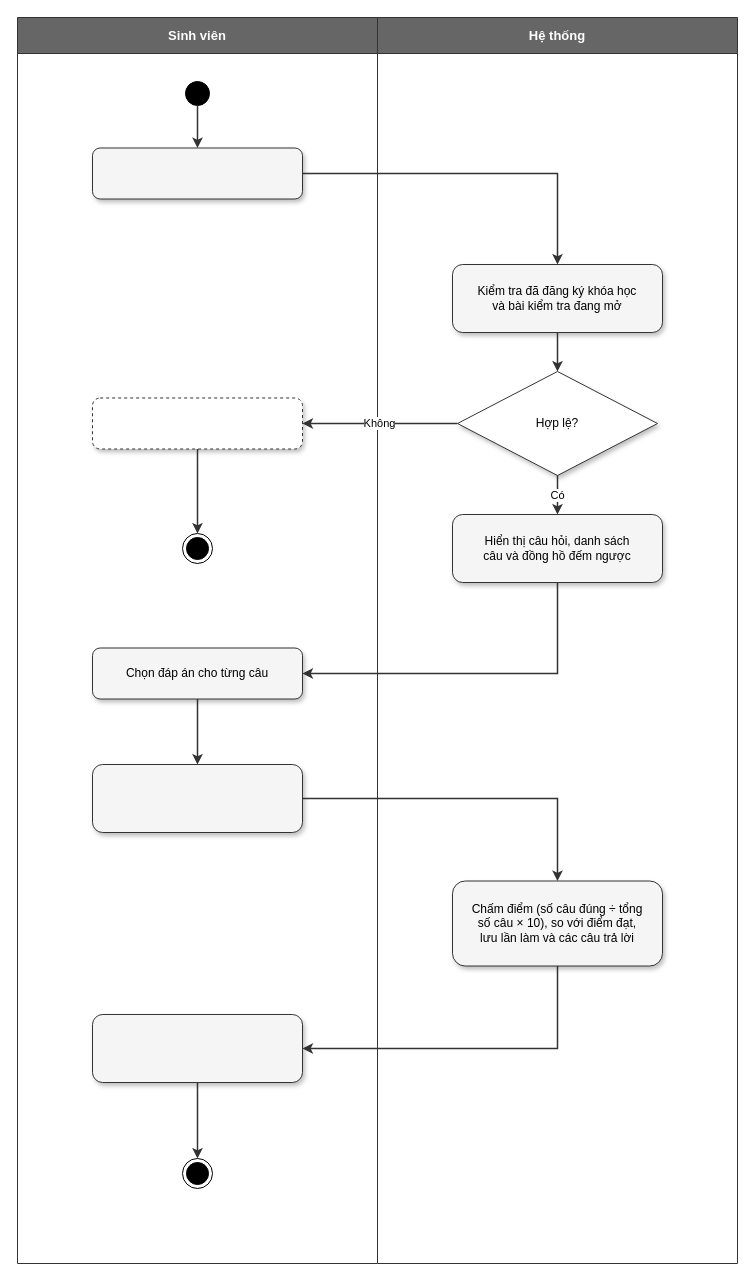
The diagram is 755 pixels wide and 1281 high, and some of its shapes have lost their labels. Each missing label, with the centre of its shape:
Chọn bài kiểm tra: pixel 198 174
Nhấn “Nộp bài” (hết giờ: hệ thống tự nộp): pixel 198 800
Từ chối truy cập: pixel 198 424
Xem điểm, số câu đúng, xem lại đáp án: pixel 198 1050
